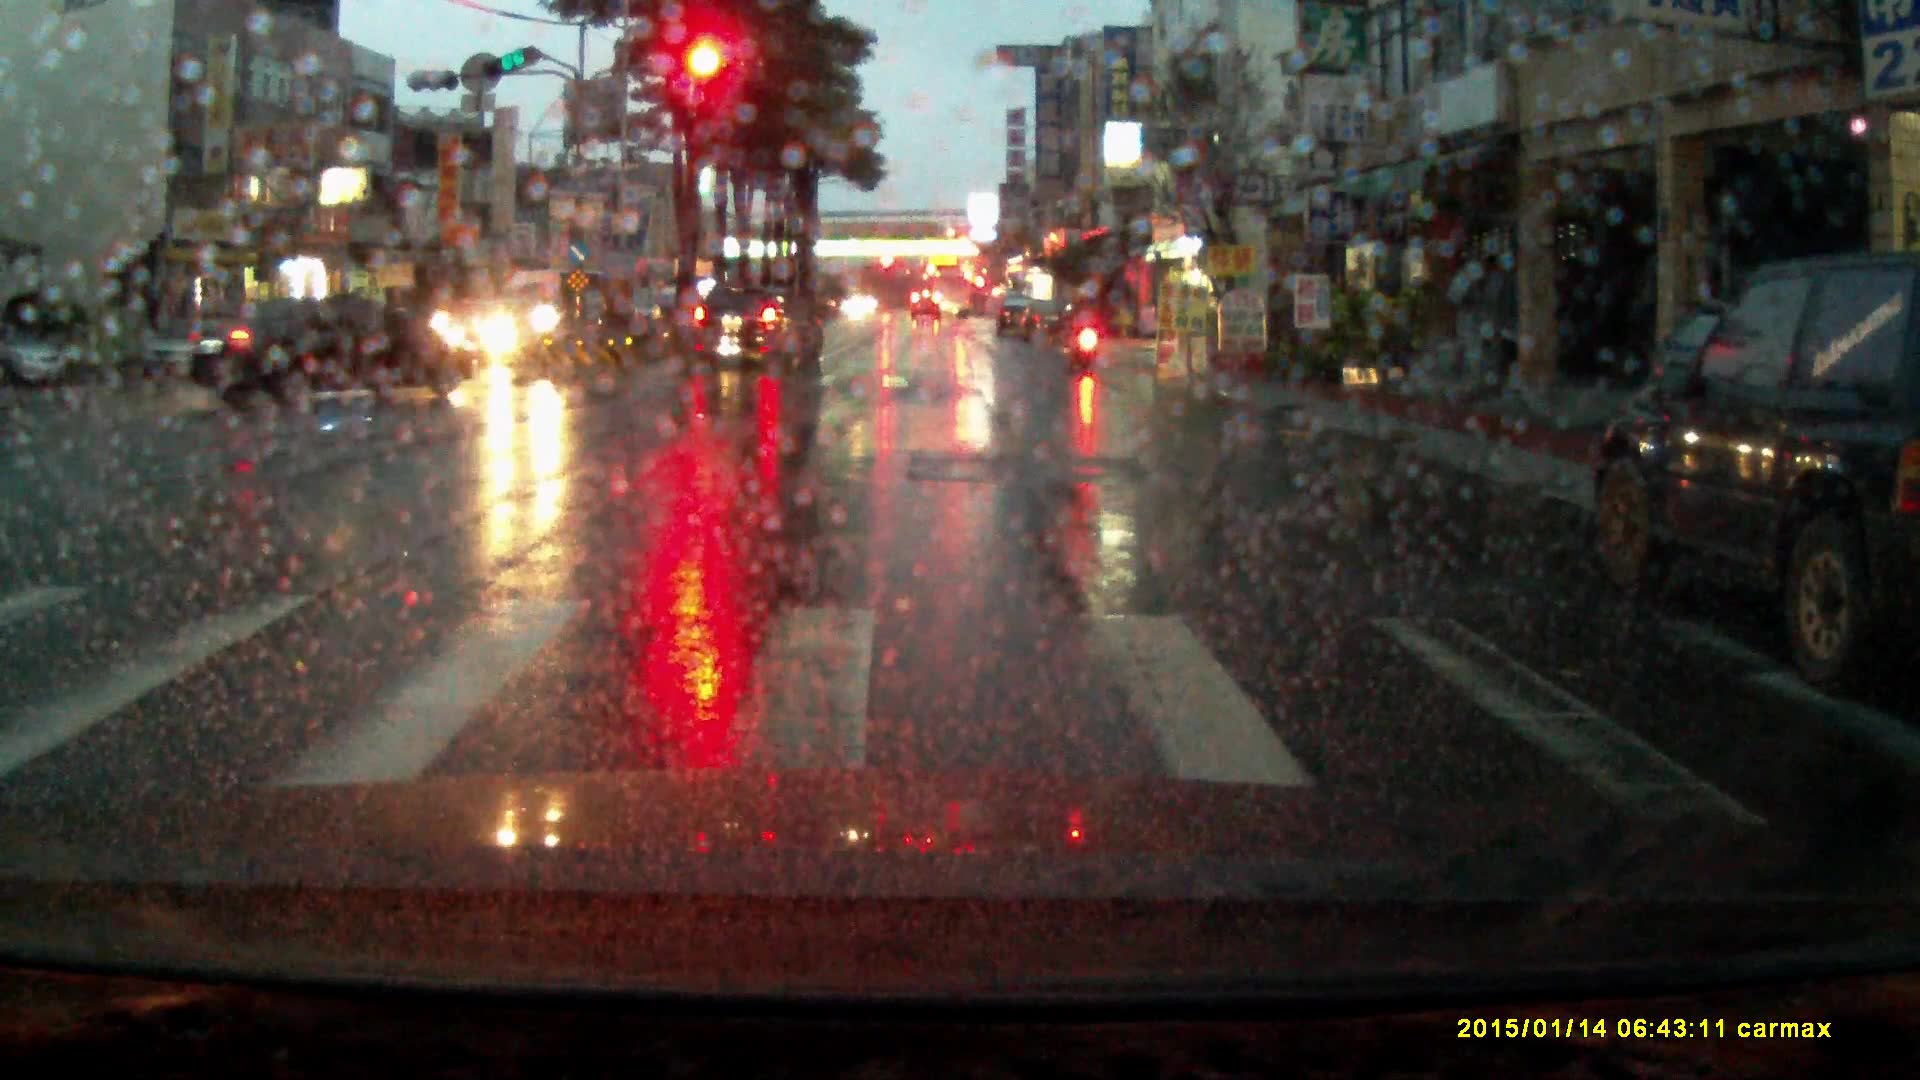rider: (1063, 278, 1110, 372)
vehicle: (1582, 248, 1920, 683), (183, 296, 485, 406), (687, 284, 814, 373), (431, 298, 546, 370), (494, 268, 591, 341), (574, 288, 664, 340), (1017, 300, 1079, 346), (931, 264, 973, 321), (995, 295, 1030, 338), (911, 291, 943, 322)
